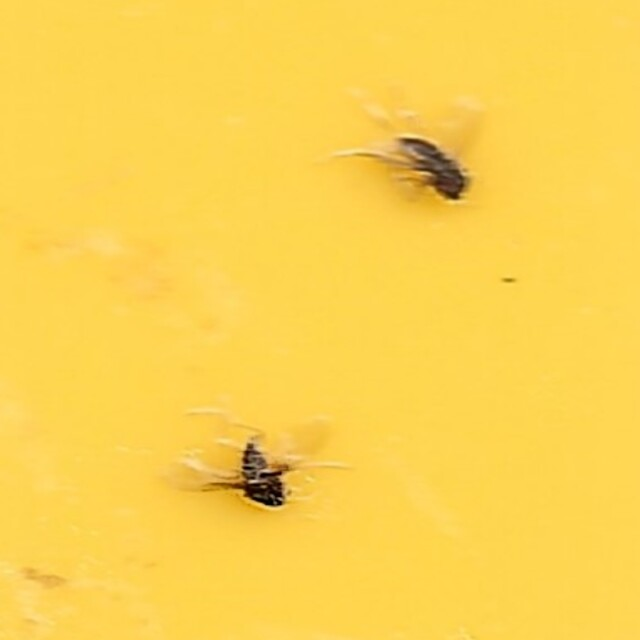Brachycera: (167, 422, 332, 508), (318, 132, 473, 206)
